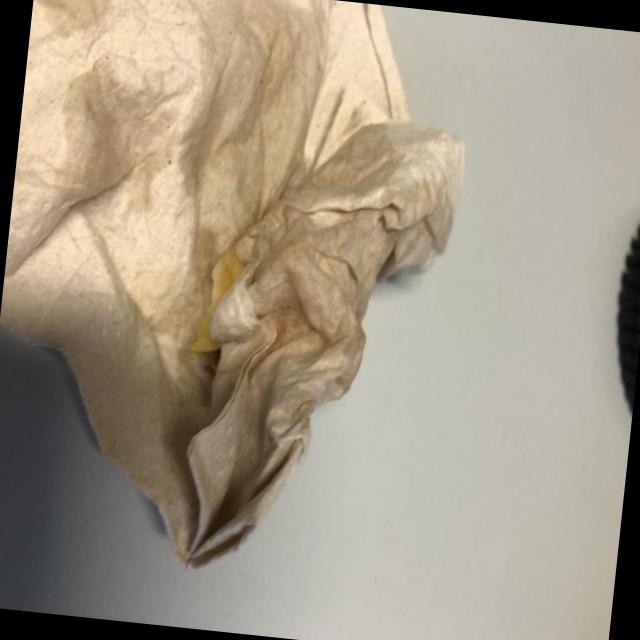organic waste: (0, 0, 481, 588)
